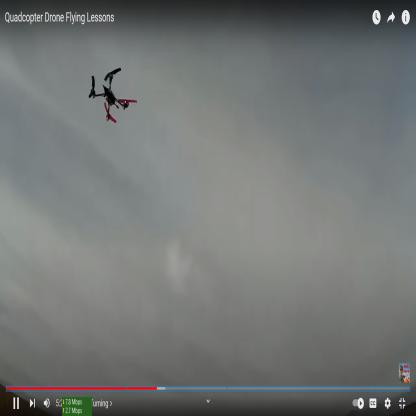drone: (86, 59, 139, 134)
